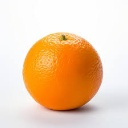orange: (20, 30, 105, 114)
